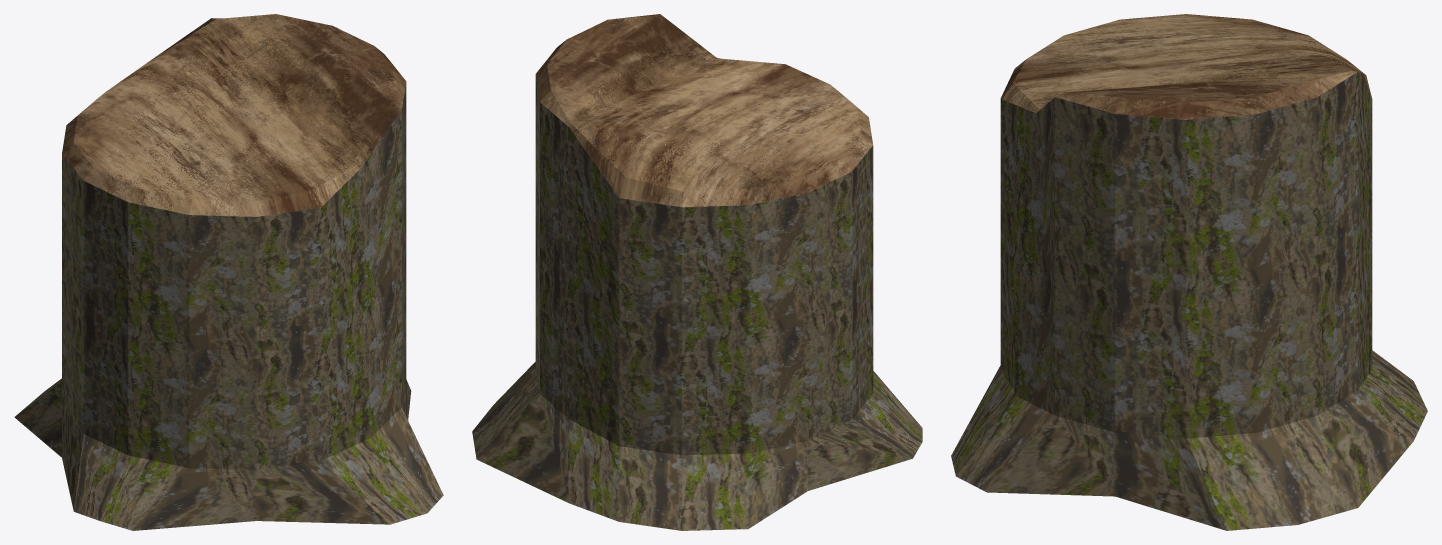
Rendered from large tree stumpTX.fbx.
3 renders of one model, left to right at view 1: azimuth 30°, elevation 25°; view 2: azimuth 150°, elevation 25°; view 3: azimuth 270°, elevation 25°, orthographic. The views are drawn at different scales.
Parts seen in each view (by area): view 1: large tree stump; view 2: large tree stump; view 3: large tree stump.
Boxes of the visible parts, x1,y1,x2,y2 form: large tree stump: (14,14,443,530); large tree stump: (472,14,922,530); large tree stump: (951,14,1427,530).
Bounding box in the file's own units: 254 × 239 × 257.
1 material, 1 textured.
